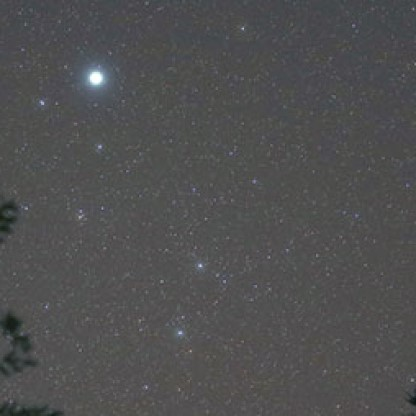Lyra: (82, 64, 110, 93), (187, 249, 212, 280), (89, 132, 114, 160), (73, 199, 90, 232), (166, 322, 191, 343), (31, 88, 52, 111)
